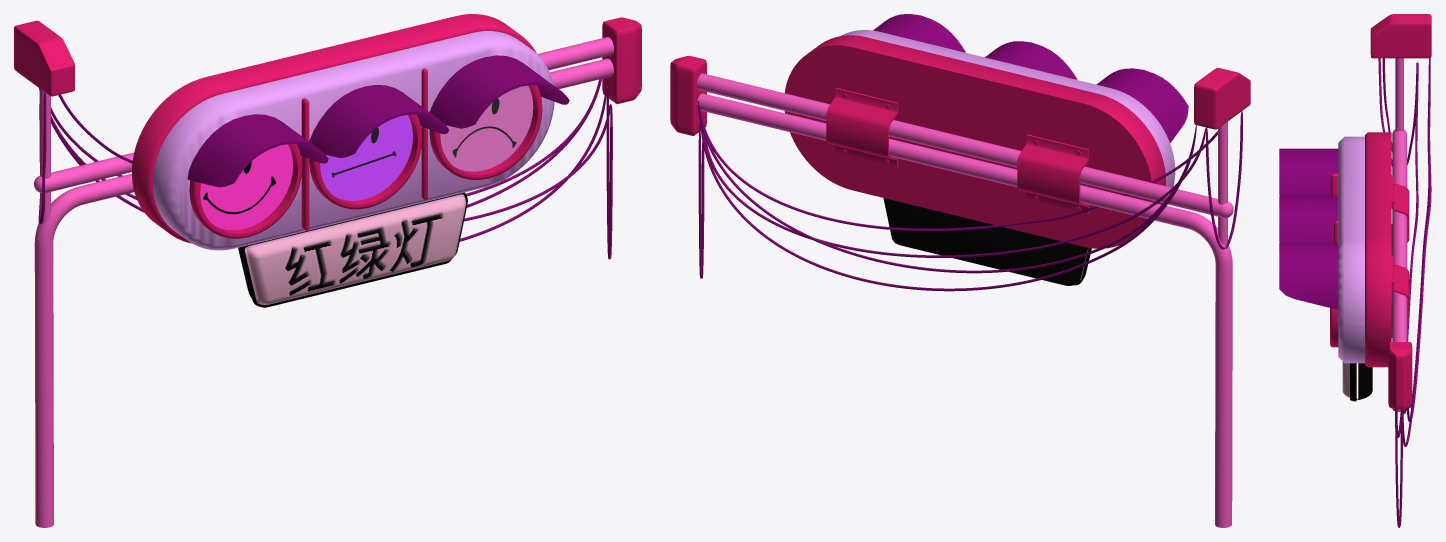
Rendered from traffic.glb.
3 renders of one model, left to right at view 1: azimuth 30°, elevation 25°; view 2: azimuth 150°, elevation 25°; view 3: azimuth 270°, elevation 25°, orthographic. The views are drawn at different scales.
Visible parts, largest first — view 1: Body, Lights, Plane, Hanger, Lofts, Cubes, Wires, Loft, Separator, Separator_2; view 2: Body, Hanger, Wires, Hanger_2, Plane, Cubes, Lofts, Loft; view 3: Body, Lofts, Cubes, Wires, Hanger, Loft, Hanger_2, Plane, Lights.
Boxes of the visible parts, left/top/right/bottom form: Body: left=132, top=14, right=554, bottom=250; Lights: left=189, top=85, right=542, bottom=238; Plane: left=238, top=192, right=467, bottom=307; Hanger: left=34, top=37, right=613, bottom=527; Lofts: left=187, top=55, right=569, bottom=187; Cubes: left=14, top=17, right=641, bottom=103; Wires: left=38, top=79, right=612, bottom=259; Loft: left=309, top=85, right=448, bottom=157; Separator: left=301, top=98, right=309, bottom=230; Separator_2: left=421, top=68, right=427, bottom=199; Body: left=784, top=30, right=1175, bottom=248; Hanger: left=696, top=73, right=1233, bottom=527; Wires: left=697, top=100, right=1242, bottom=291; Hanger_2: left=826, top=87, right=1089, bottom=214; Plane: left=883, top=198, right=1091, bottom=285; Cubes: left=670, top=56, right=1250, bottom=135; Lofts: left=873, top=14, right=1188, bottom=143; Loft: left=985, top=41, right=1077, bottom=79; Body: left=1338, top=132, right=1391, bottom=367; Lofts: left=1279, top=148, right=1338, bottom=309; Cubes: left=1370, top=14, right=1431, bottom=409; Wires: left=1378, top=58, right=1431, bottom=527; Hanger: left=1392, top=58, right=1407, bottom=411; Loft: left=1279, top=195, right=1338, bottom=242; Hanger_2: left=1391, top=175, right=1409, bottom=337; Plane: left=1342, top=361, right=1372, bottom=401; Lights: left=1330, top=308, right=1338, bottom=347.
Bounding box in the file's own units: 529 × 406 × 143.
Materials: 7 (2 with a texture image).
